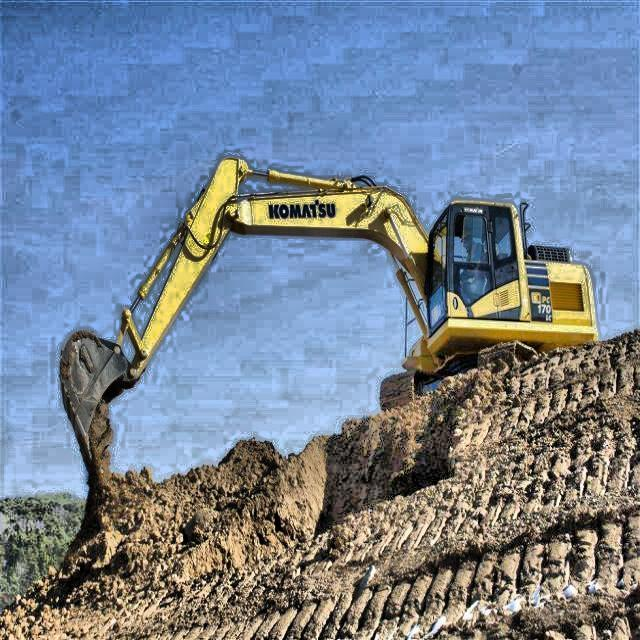excavator: (57, 150, 601, 468)
